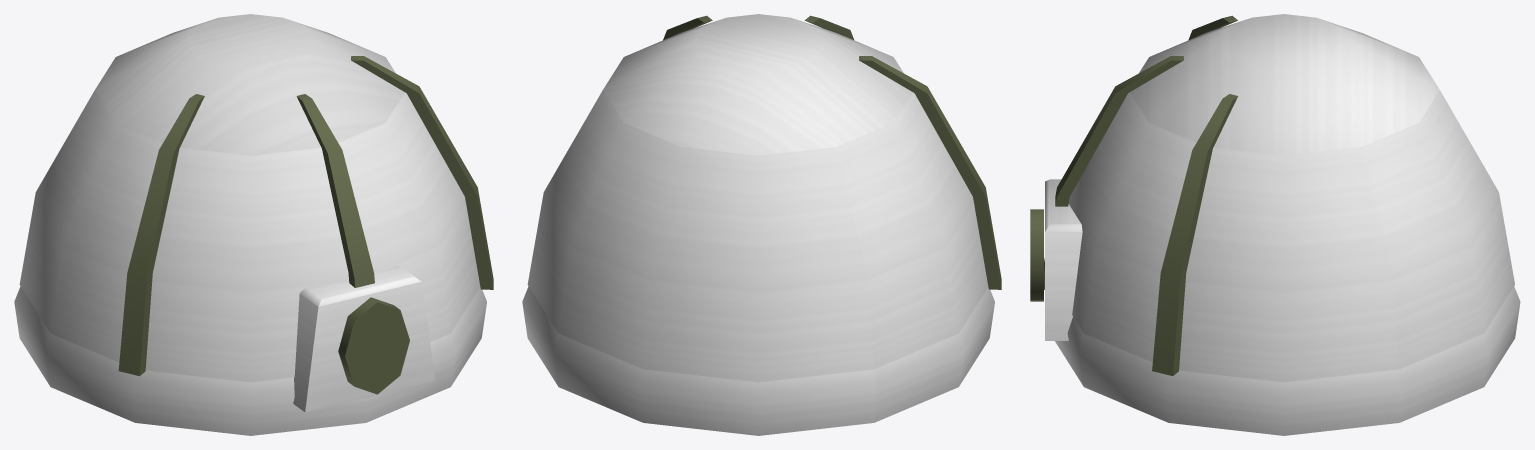
File: mech_low_shield.obj
3 renders of one model, left to right at view 1: azimuth 30°, elevation 25°; view 2: azimuth 150°, elevation 25°; view 3: azimuth 270°, elevation 25°, orthographic.
Visible parts, largest first — view 1: source_component_001, source_component_000, source_component_005, source_component_002, source_component_006, source_component_003, source_component_004; view 2: source_component_001, source_component_000, source_component_002; view 3: source_component_001, source_component_000, source_component_004, source_component_005, source_component_003, source_component_006.
Boxes of the visible parts, x1,y1,x2,y2 form: source_component_001: (19, 14, 480, 382); source_component_000: (14, 286, 486, 435); source_component_005: (293, 265, 435, 412); source_component_002: (118, 94, 204, 376); source_component_006: (338, 297, 409, 394); source_component_003: (296, 94, 374, 287); source_component_004: (351, 56, 493, 289); source_component_001: (527, 14, 988, 382); source_component_000: (522, 286, 994, 435); source_component_002: (859, 56, 1001, 289); source_component_001: (1068, 14, 1514, 382); source_component_000: (1055, 286, 1520, 435); source_component_004: (1152, 94, 1237, 375); source_component_005: (1045, 179, 1082, 340); source_component_003: (1044, 56, 1183, 289); source_component_006: (1030, 209, 1043, 301).
Bounding box in the file's own units: 0.88 × 0.61 × 0.912.
